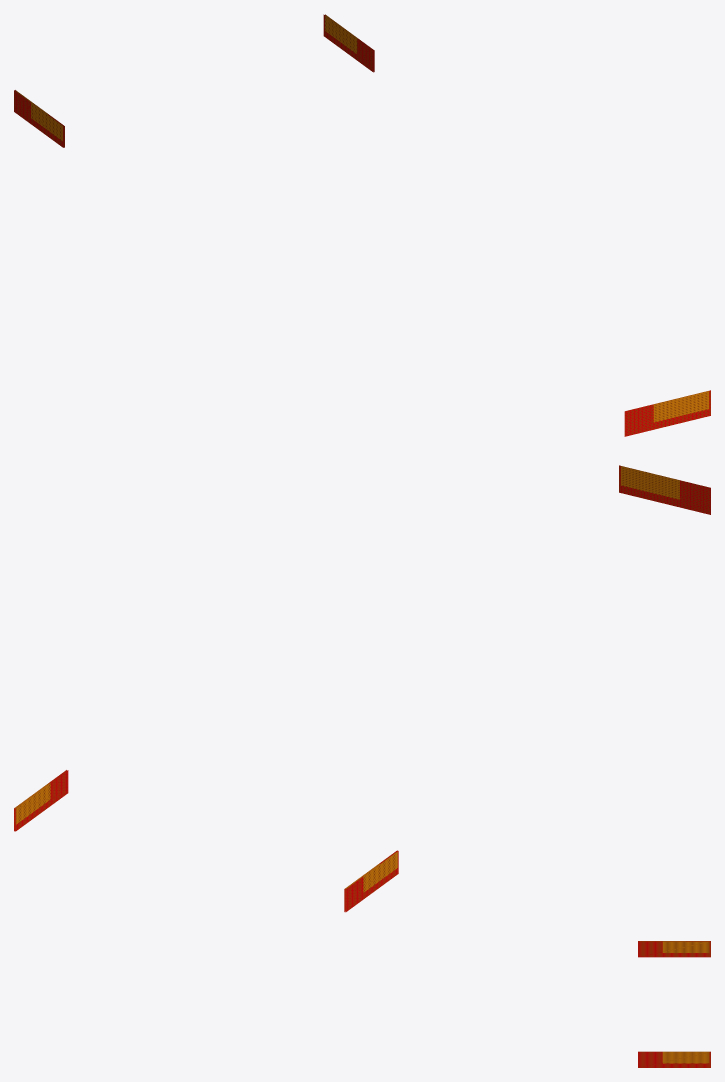
The model's file is K800_0_UMEDA.glb.
3 renders of one model, top to bottom at view 1: azimuth 30°, elevation 25°; view 2: azimuth 150°, elevation 25°; view 3: azimuth 270°, elevation 25°, orthographic. The views are drawn at different scales.
Parts seen in each view (by area): view 1: LED; view 2: LED; view 3: LED.
Part boxes in pixels (x1,y1,x2,y2): LED: (14,14,710,436); LED: (14,465,710,912); LED: (638,941,710,1067).
Bounding box in the file's own units: 5.39 × 0.5085 × 14.31.
Materials: 1 (1 with a texture image).
